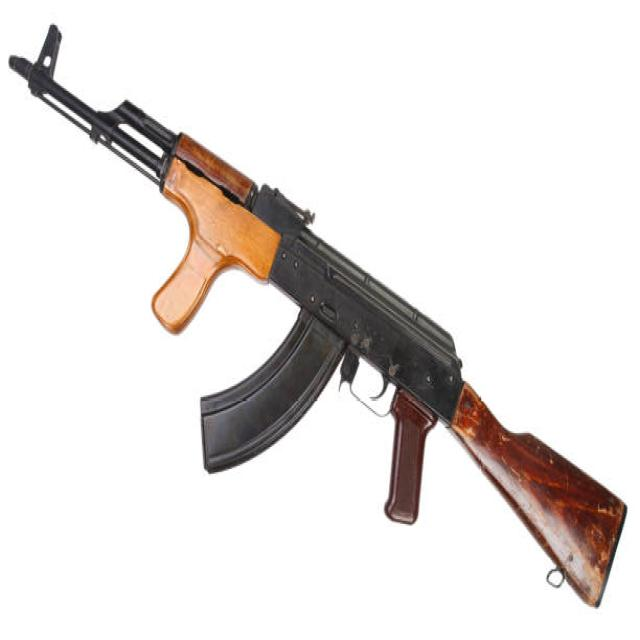rifle: (1, 16, 634, 613)
